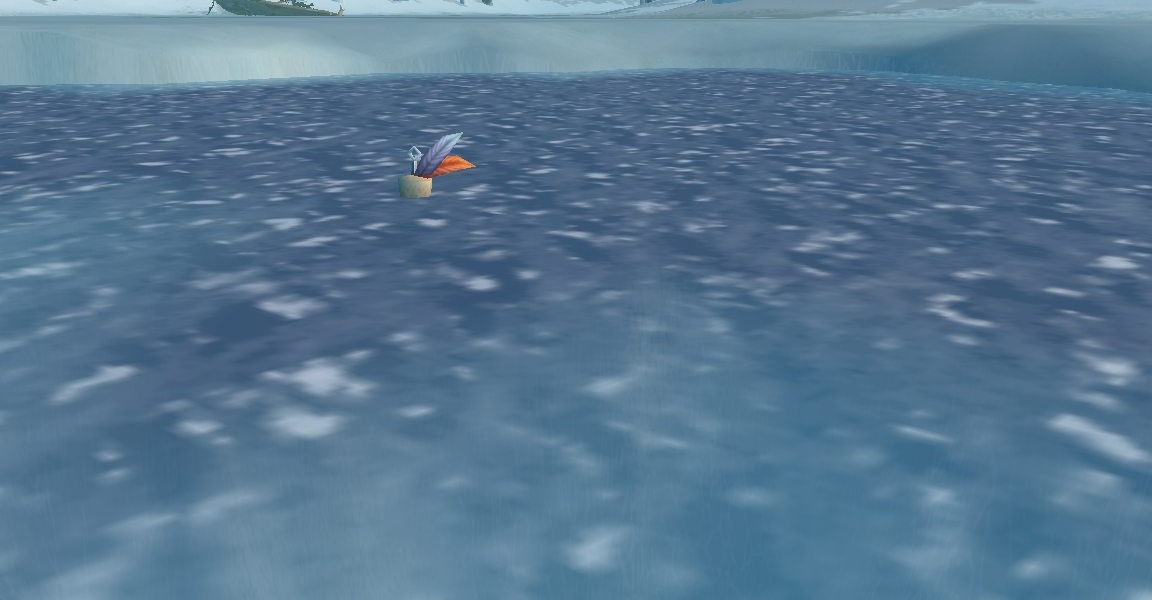Bobber: (391, 129, 478, 199)
